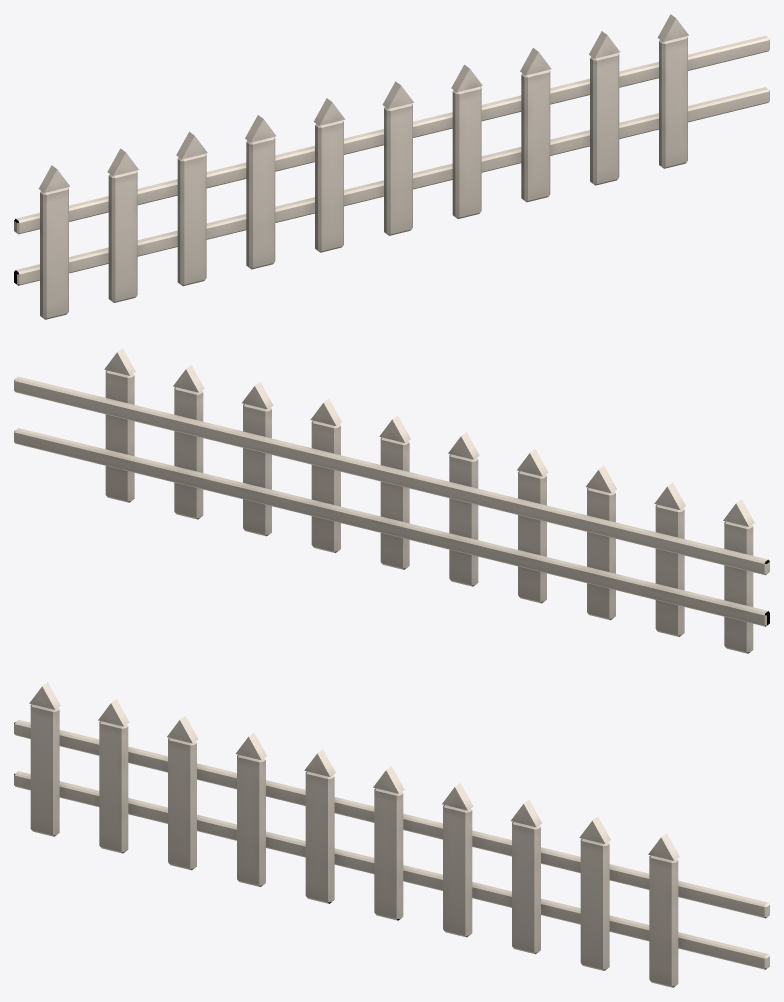
File: StartKit_Fence.fbx
3 views of the same model, one above another, from view 1: azimuth 30°, elevation 25°; view 2: azimuth 150°, elevation 25°; view 3: azimuth 330°, elevation 25° (orthographic).
Parts seen in each view (by area): view 1: Fence.001; view 2: Fence.001; view 3: Fence.001.
Boxes of the visible parts, box(x1,y1,x2,y2) form: Fence.001: box(14, 14, 769, 319); Fence.001: box(14, 348, 769, 653); Fence.001: box(14, 682, 769, 987).
Bounding box in the file's own units: 4.6 × 0.87 × 0.105.
Materials: 1 (1 with a texture image).
